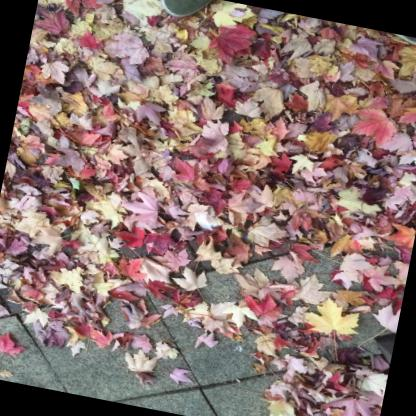Plastic: (191, 208, 220, 230)
